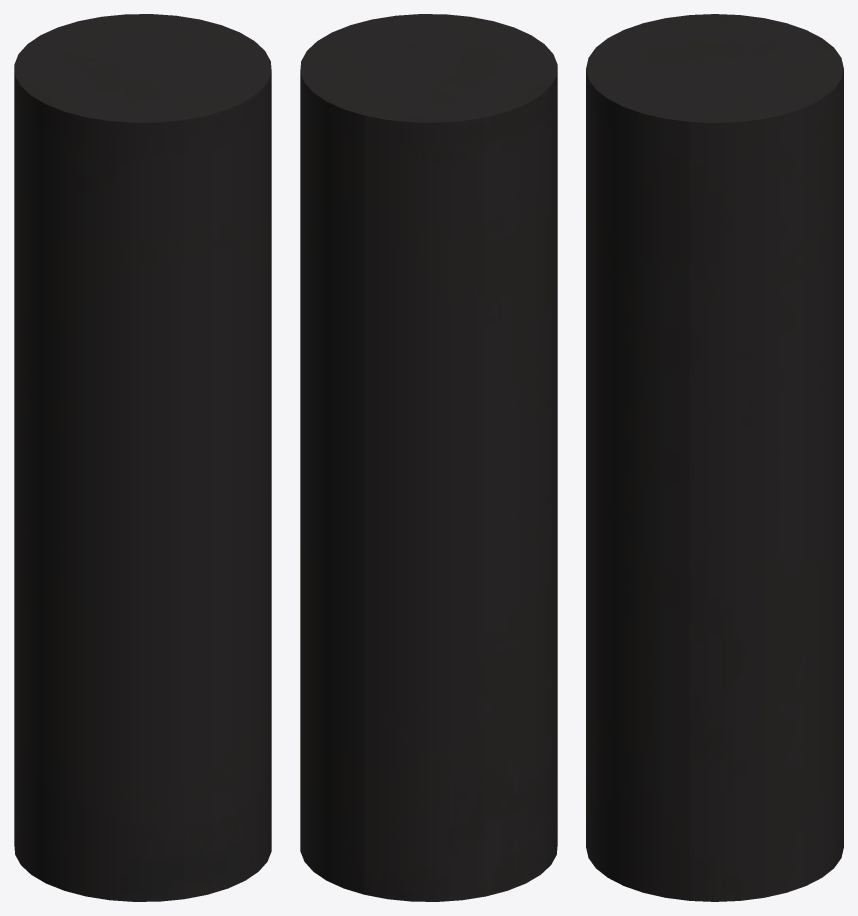
Rendered from frame__roller_axle.glb.
3 views of the same model, side by side, from view 1: azimuth 30°, elevation 25°; view 2: azimuth 150°, elevation 25°; view 3: azimuth 270°, elevation 25° (orthographic).
Visible parts, largest first — view 1: world; view 2: world; view 3: world.
Boxes of the visible parts, x1=… form: world: x1=14, y1=14, x2=271, y2=901; world: x1=300, y1=14, x2=557, y2=901; world: x1=586, y1=14, x2=843, y2=901.
Size of the model in its own units: 0.024 by 0.08 by 0.024.
1 material, 1 textured.
